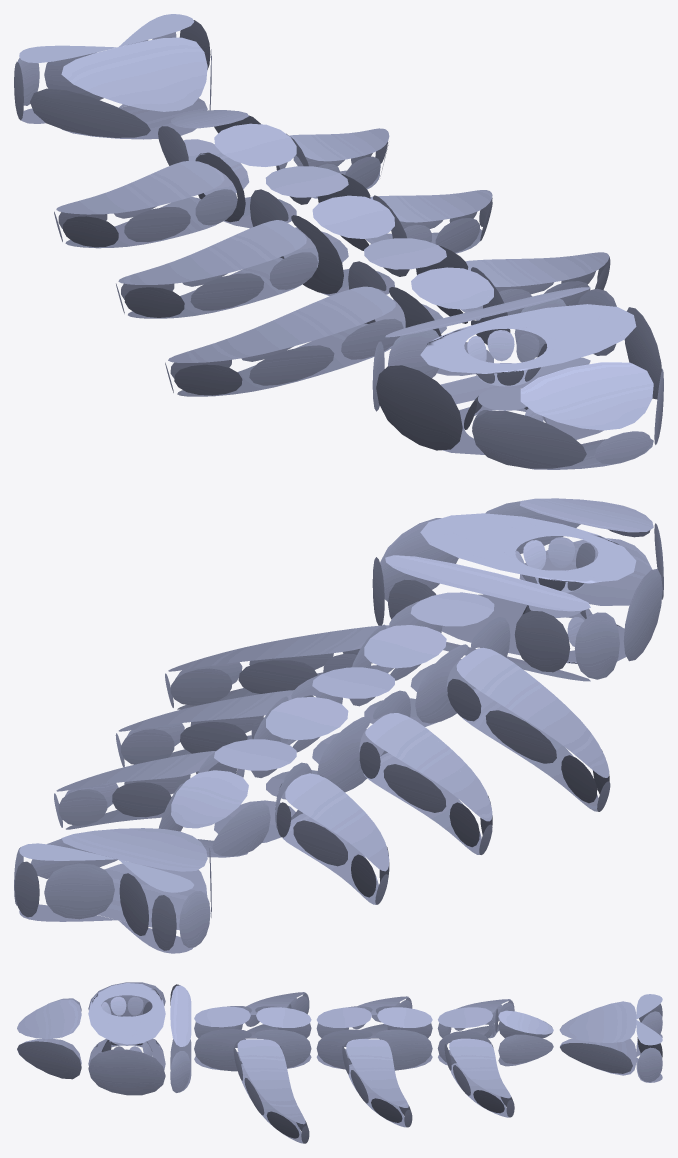
File: fish-bones.glb
The picture shows the model from 3 angles, top to bottom: view 1: azimuth 30°, elevation 25°; view 2: azimuth 150°, elevation 25°; view 3: azimuth 270°, elevation 25°; orthographic projection. The views are drawn at different scales.
Visible parts, largest first — view 1: fish-bones; view 2: fish-bones; view 3: fish-bones.
Part boxes in pixels (<box>): fish-bones: <box>14,14,663,469</box>; fish-bones: <box>14,498,663,953</box>; fish-bones: <box>17,982,662,1143</box>.
Size of the model in its own units: 0.3087 by 0.0719 by 0.6358.
1 material, 1 textured.
